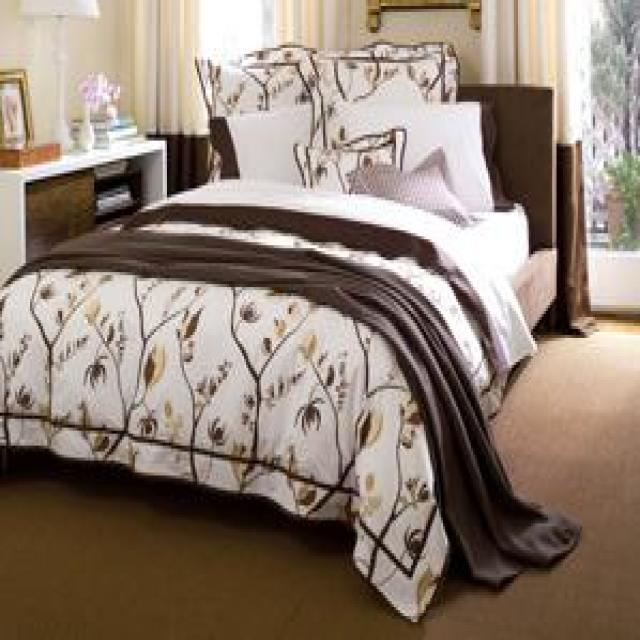bed: (4, 70, 558, 622)
